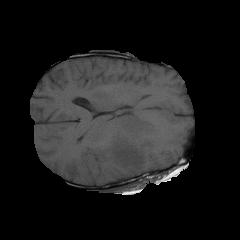glioma: (107, 107, 174, 173)
